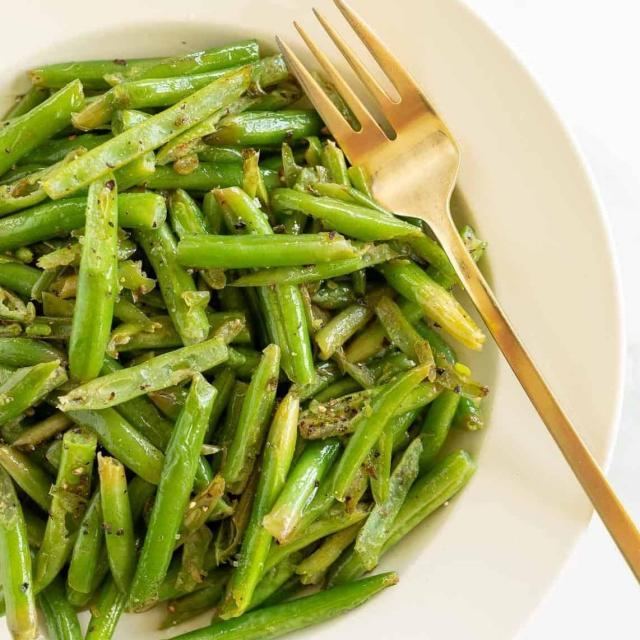Beans: (0, 24, 497, 639)
